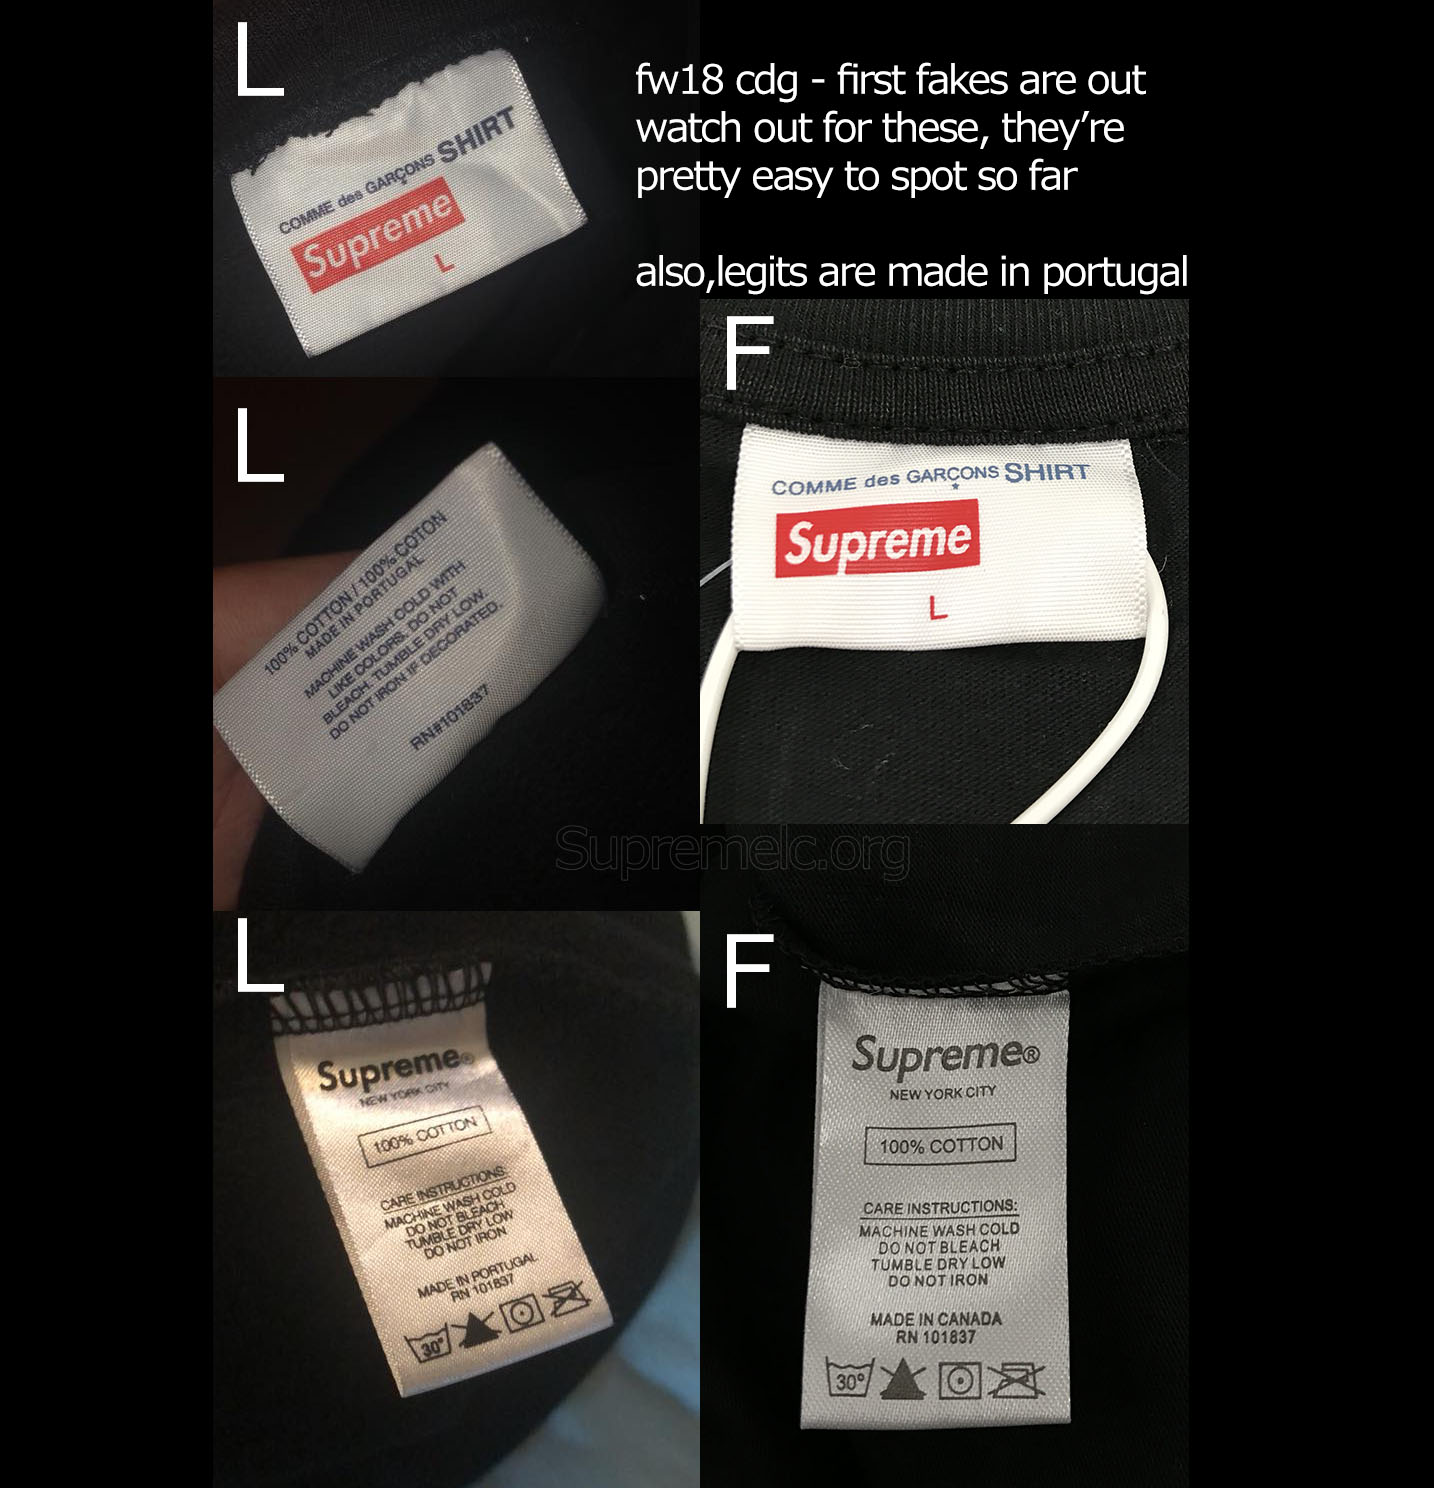do_not_iron: (544, 1277, 595, 1321), (989, 1360, 1042, 1402)
